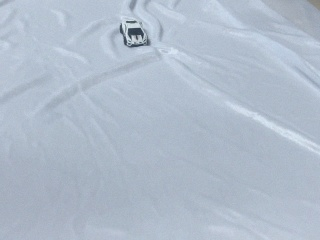toy_car: (120, 18, 148, 47)
